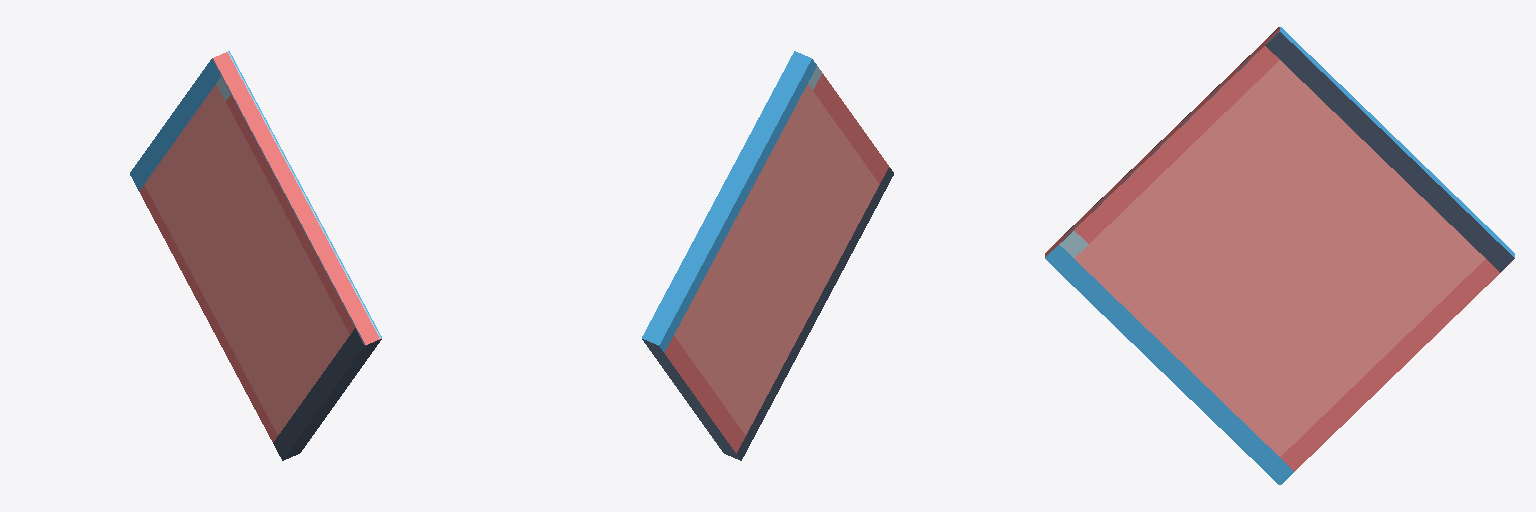
3 renders of one model, left to right at view 1: azimuth 30°, elevation 25°; view 2: azimuth 150°, elevation 25°; view 3: azimuth 270°, elevation 25°, orthographic.
Parts seen in each view (by area): view 1: cube; view 2: cube; view 3: cube.
Boxes of the visible parts, x1,y1,x2,y2 form: cube: [130, 51, 381, 460]; cube: [642, 51, 893, 460]; cube: [1045, 27, 1514, 484].
Size of the model in its own units: 0.3071 by 1.4 by 1.41.
1 materials, 1 textured.